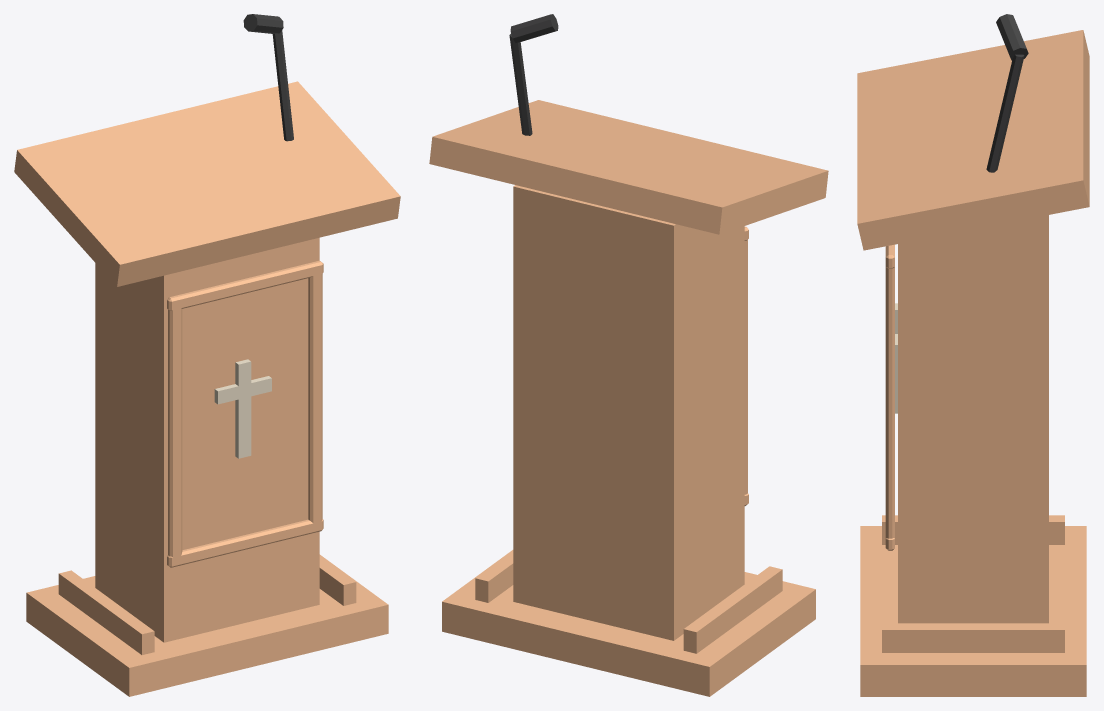
3 renders of one model, left to right at view 1: azimuth 30°, elevation 25°; view 2: azimuth 150°, elevation 25°; view 3: azimuth 270°, elevation 25°, orthographic. The views are drawn at different scales.
Visible parts, largest first — view 1: Body, Reading top, Foot, Raised panel molding, Raised panel molding.001, Lower plinth, Panel trim.001, Panel trim, Cross upright, Lower plinth.001, Gooseneck microphone, Cross arm (+1 smaller); view 2: Body, Reading top, Foot, Lower plinth, Lower plinth.001, Gooseneck microphone, Raised panel molding, Microphone head; view 3: Body, Reading top, Foot, Lower plinth.001, Raised panel molding.001, Gooseneck microphone, Microphone head, Lower plinth.
Part boxes in pixels (left/top/right/bottom): Body: left=95, top=237, right=319, bottom=642; Reading top: left=14, top=81, right=400, bottom=286; Foot: left=26, top=554, right=388, bottom=696; Raised panel molding: left=168, top=308, right=182, bottom=563; Raised panel molding.001: left=308, top=274, right=322, bottom=529; Lower plinth: left=58, top=570, right=154, bottom=654; Panel trim.001: left=167, top=260, right=323, bottom=310; Panel trim: left=167, top=519, right=323, bottom=567; Cross upright: left=235, top=359, right=251, bottom=458; Lower plinth.001: left=319, top=555, right=356, bottom=605; Gooseneck microphone: left=272, top=30, right=293, bottom=141; Cross arm: left=214, top=376, right=271, bottom=404; Body: left=513, top=185, right=744, bottom=640; Reading top: left=429, top=100, right=828, bottom=234; Foot: left=442, top=550, right=815, bottom=696; Lower plinth: left=683, top=566, right=782, bottom=653; Lower plinth.001: left=475, top=551, right=513, bottom=602; Gooseneck microphone: left=509, top=33, right=532, bottom=135; Raised panel molding: left=744, top=240, right=747, bottom=494; Microphone head: left=510, top=14, right=558, bottom=42; Body: left=898, top=215, right=1048, bottom=623; Reading top: left=857, top=30, right=1089, bottom=250; Foot: left=860, top=526, right=1086, bottom=696; Lower plinth.001: left=882, top=623, right=1064, bottom=652; Raised panel molding.001: left=885, top=267, right=894, bottom=538; Gooseneck microphone: left=986, top=54, right=1024, bottom=172; Microphone head: left=996, top=14, right=1028, bottom=60; Lower plinth: left=882, top=515, right=1064, bottom=544.
Size of the model in its own units: 78 by 156 by 50.87.
